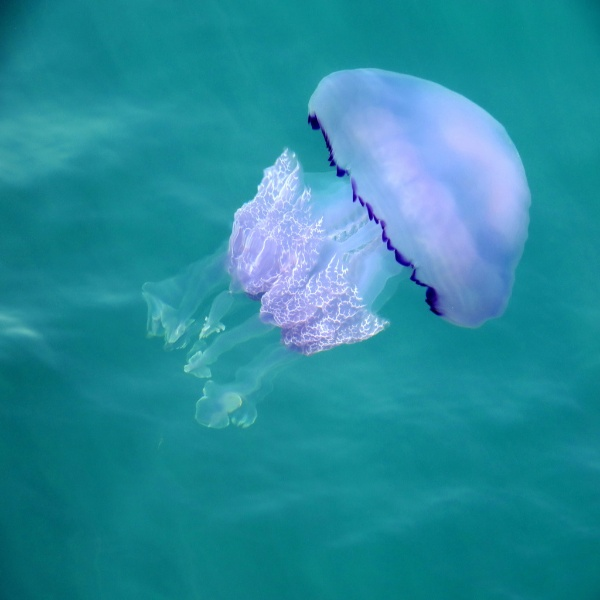Jellyfish: (196, 52, 534, 395)
